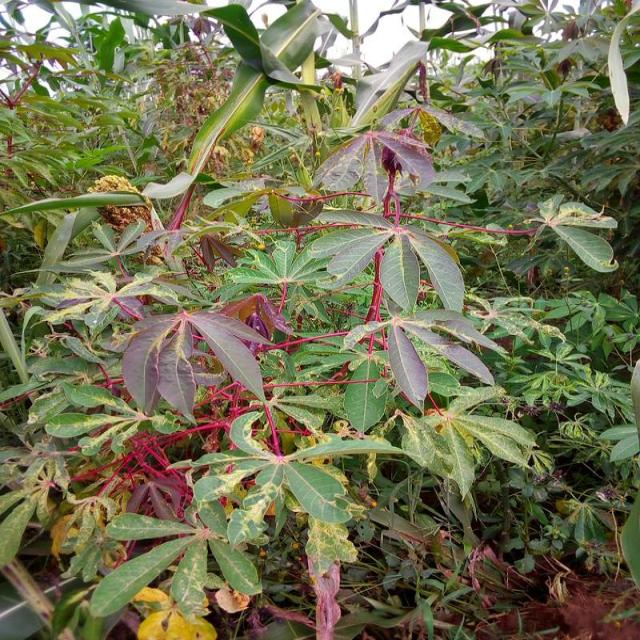Mosaico: (133, 298, 284, 417), (218, 437, 327, 541), (107, 561, 232, 640), (45, 266, 155, 314)
